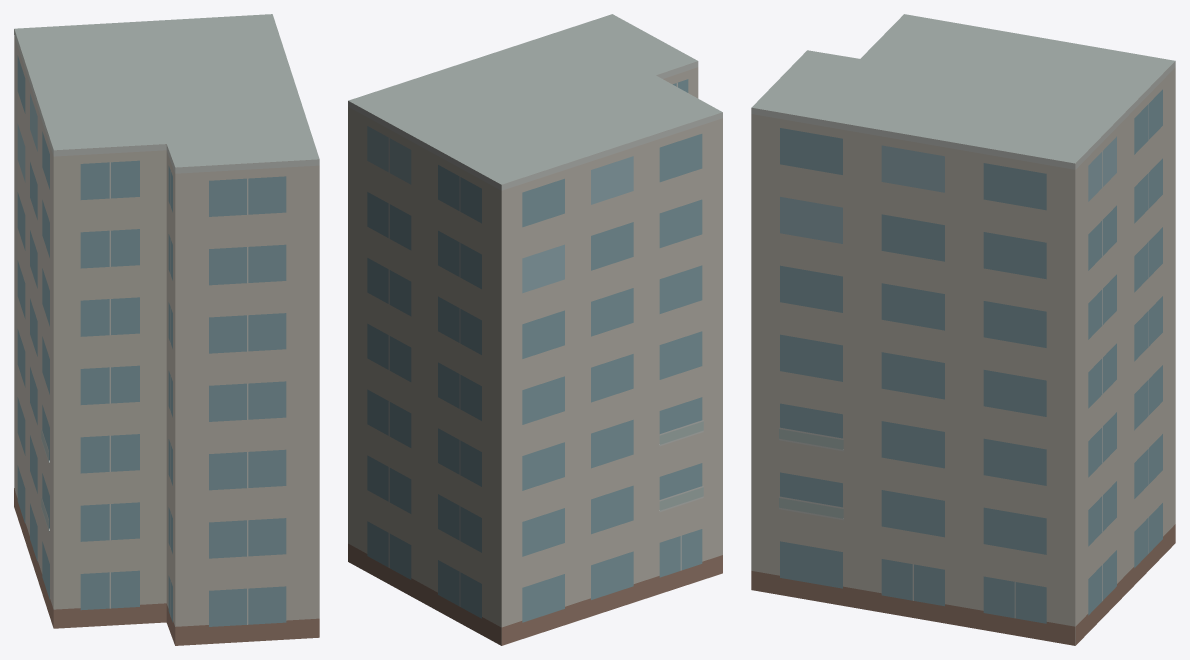
File: survey-upis-32534815.glb
3 views of the same model, side by side, from view 1: azimuth 30°, elevation 25°; view 2: azimuth 150°, elevation 25°; view 3: azimuth 270°, elevation 25° (orthographic). The views are drawn at different scales.
Parts seen in each view (by area): view 1: survey-upis-32534815.tmp; view 2: survey-upis-32534815.tmp; view 3: survey-upis-32534815.tmp.
Boxes of the visible parts, bbox=[...] form: survey-upis-32534815.tmp: bbox=[14, 14, 319, 645]; survey-upis-32534815.tmp: bbox=[348, 14, 722, 645]; survey-upis-32534815.tmp: bbox=[751, 14, 1175, 645].
Size of the model in its own units: 12.37 by 18.6 by 14.83.
